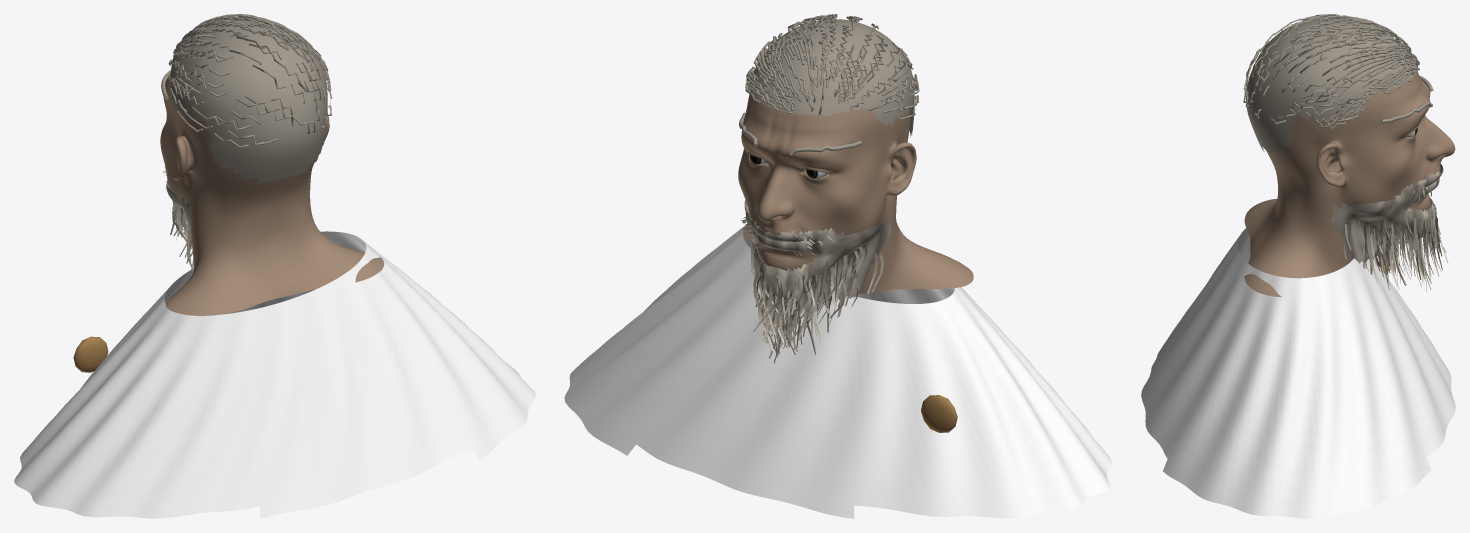
The model's file is envoy_033.glb.
The picture shows the model from 3 angles, left to right: view 1: azimuth 30°, elevation 25°; view 2: azimuth 150°, elevation 25°; view 3: azimuth 270°, elevation 25°; orthographic projection. The views are drawn at different scales.
Parts seen in each view (by area): view 1: Folded shoulder mantle, Envoy 033 body, Envoy 033 fitted scalp, Shoulder clasp, Hades beard hair cards; view 2: Folded shoulder mantle, Envoy 033 body, Envoy 033 fitted scalp, Hades beard hair cards, Hades beard hair shell, Shoulder clasp; view 3: Folded shoulder mantle, Envoy 033 body, Envoy 033 fitted scalp, Hades beard hair shell, Hades beard hair cards.
Boxes of the visible parts, x1,y1,x2,y2 form: Folded shoulder mantle: (14, 231, 535, 518); Envoy 033 body: (160, 69, 384, 315); Envoy 033 fitted scalp: (170, 19, 327, 183); Shoulder clasp: (73, 336, 108, 372); Hades beard hair cards: (163, 167, 193, 272); Folded shoulder mantle: (564, 225, 1112, 518); Envoy 033 body: (738, 91, 973, 293); Envoy 033 fitted scalp: (748, 19, 914, 137); Hades beard hair cards: (740, 217, 883, 363); Hades beard hair shell: (744, 200, 891, 302); Shoulder clasp: (921, 395, 957, 432); Folded shoulder mantle: (1141, 228, 1455, 518); Envoy 033 body: (1244, 71, 1455, 296); Envoy 033 fitted scalp: (1246, 18, 1416, 154); Hades beard hair shell: (1331, 163, 1443, 263); Hades beard hair cards: (1342, 181, 1448, 291).
Size of the model in its own units: 0.3152 by 0.2462 by 0.1831.
